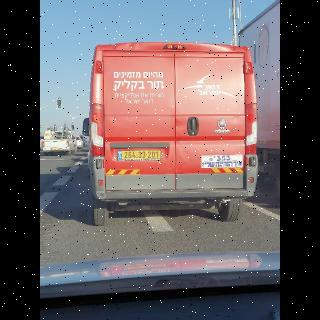LicensePlate: (122, 151, 160, 160)
